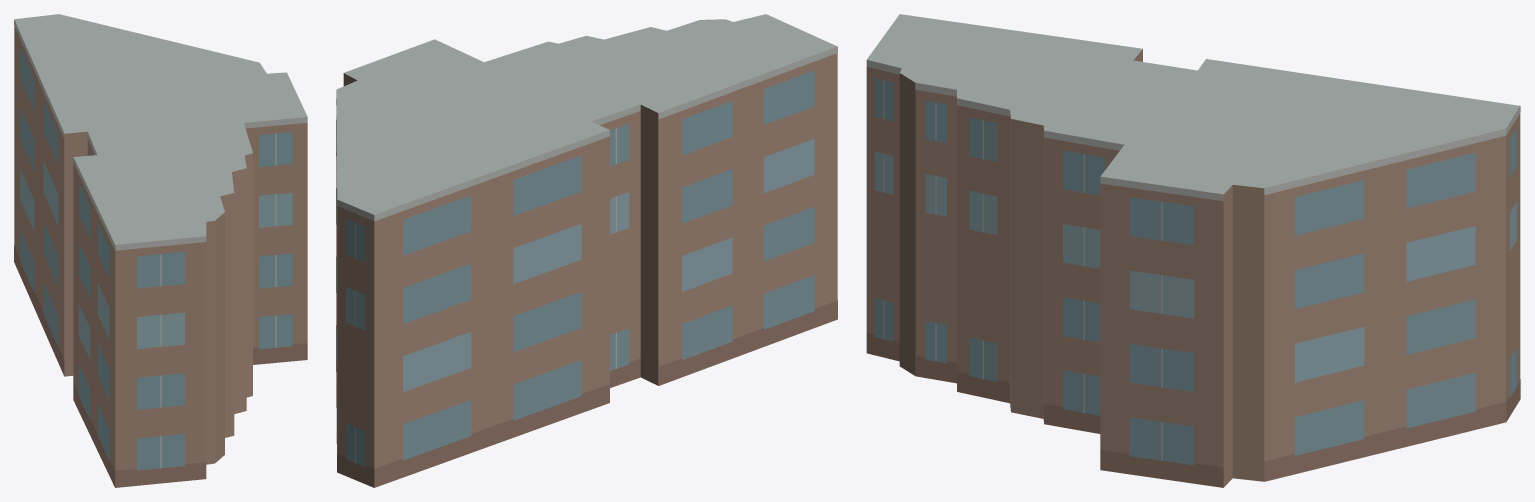
File: survey-upis-33011333.glb
The picture shows the model from 3 angles, left to right: view 1: azimuth 30°, elevation 25°; view 2: azimuth 150°, elevation 25°; view 3: azimuth 270°, elevation 25°; orthographic projection. The views are drawn at different scales.
Parts seen in each view (by area): view 1: survey-upis-33011333.tmp; view 2: survey-upis-33011333.tmp; view 3: survey-upis-33011333.tmp.
Boxes of the visible parts, bbox=[...] form: survey-upis-33011333.tmp: bbox=[14, 14, 307, 487]; survey-upis-33011333.tmp: bbox=[336, 14, 837, 487]; survey-upis-33011333.tmp: bbox=[866, 14, 1520, 487].
Bounding box in the file's own units: 13.72 × 10.4 × 21.
